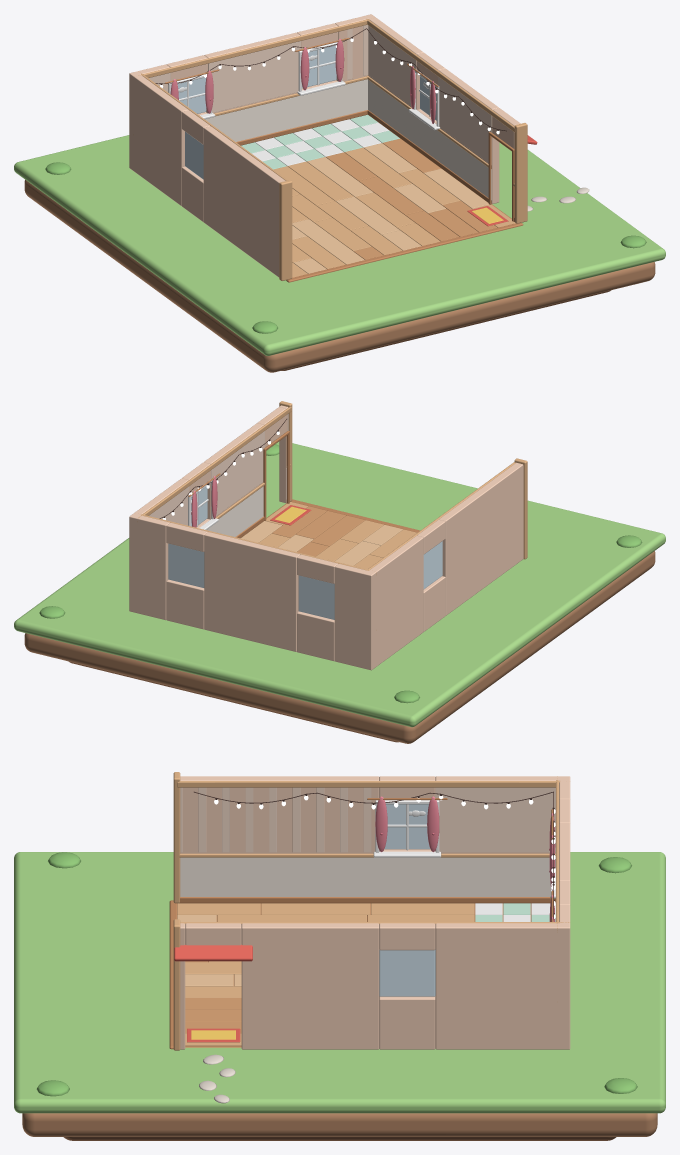
The model's file is room.glb.
3 views of the same model, one above another, from view 1: azimuth 30°, elevation 25°; view 2: azimuth 150°, elevation 25°; view 3: azimuth 270°, elevation 25° (orthographic). The views are drawn at different scales.
Parts seen in each view (by area): view 1: Island, Walls, Floor, Lights; view 2: Island, Walls, Floor; view 3: Island, Walls, Floor, Lights.
Part boxes in pixels (<box>): Island: <box>14,135,665,372</box>; Walls: <box>129,14,537,280</box>; Floor: <box>241,114,523,282</box>; Lights: <box>155,28,506,134</box>; Island: <box>14,441,665,743</box>; Walls: <box>129,401,527,670</box>; Floor: <box>240,499,420,569</box>; Island: <box>14,852,665,1140</box>; Walls: <box>173,772,570,1050</box>; Floor: <box>169,900,555,1049</box>; Lights: <box>194,791,555,919</box>.
Bounding box in the file's own units: 10.67 × 3.73 × 11.6.
